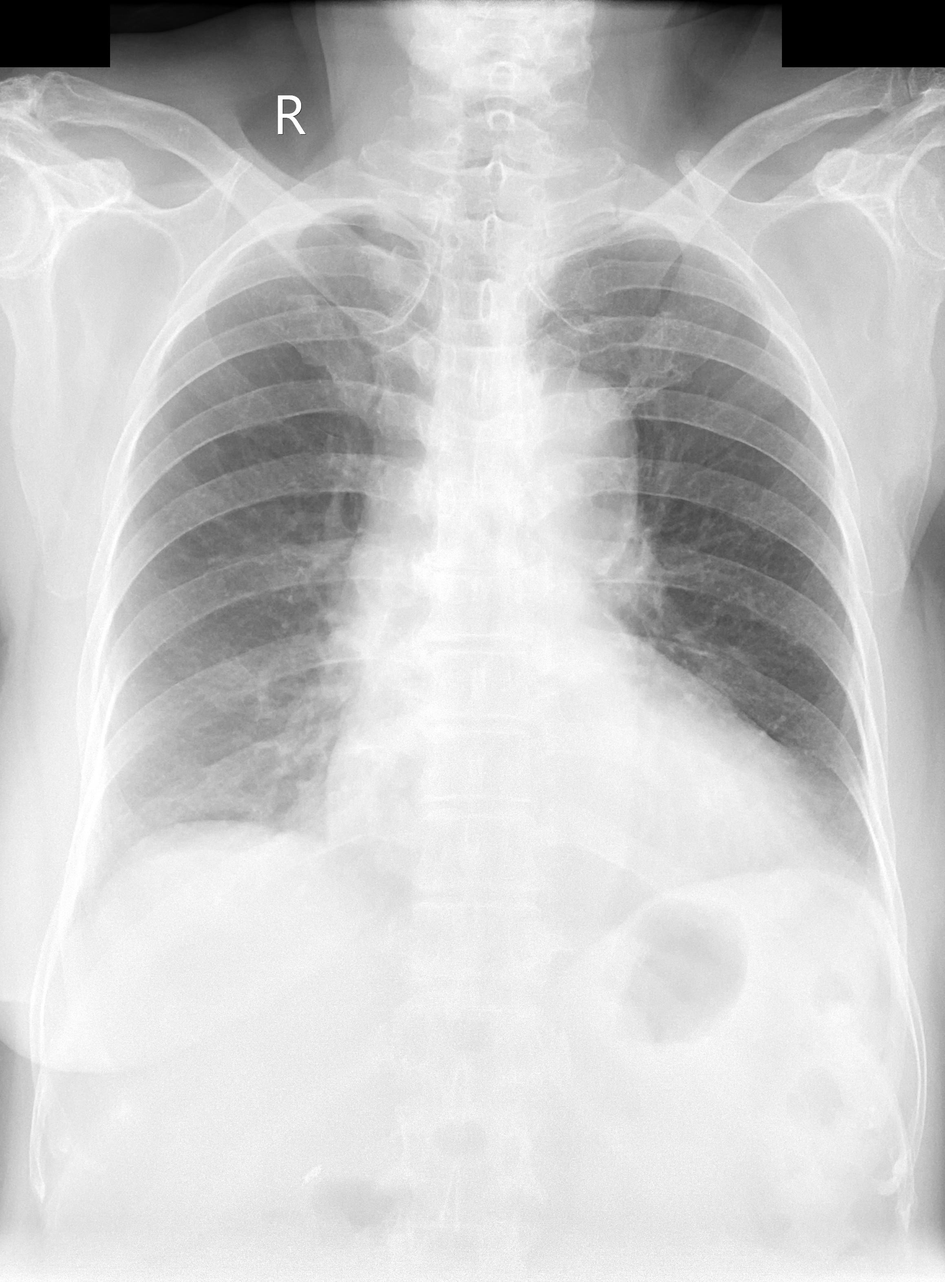Aortic enlargement: (470, 359, 641, 555)
Cardiomegaly: (323, 744, 817, 922)
